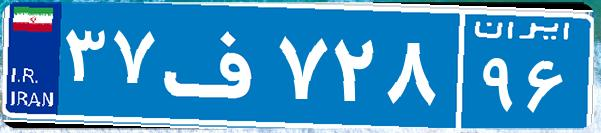2: (330, 28, 385, 110)
3: (57, 26, 110, 107)
6: (525, 38, 570, 115)
7: (273, 28, 330, 110), (110, 28, 158, 105)
8: (385, 28, 445, 110)
9: (475, 38, 525, 113)
ف: (158, 15, 273, 115)
